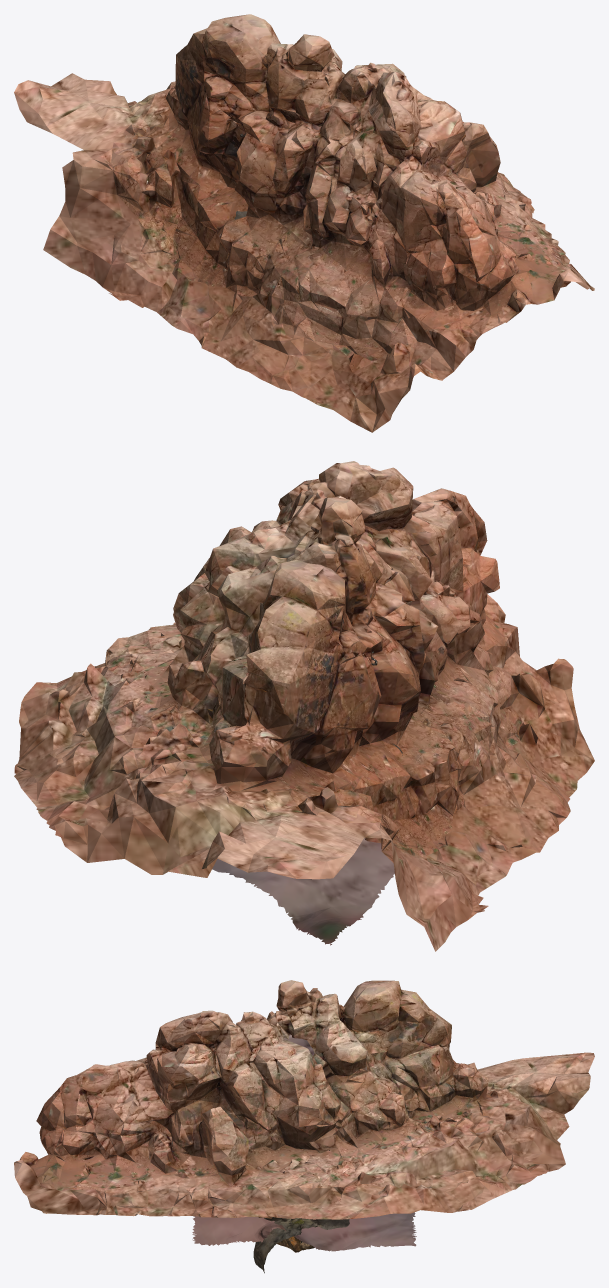
File: nature.glb
The picture shows the model from 3 angles, top to bottom: view 1: azimuth 30°, elevation 25°; view 2: azimuth 150°, elevation 25°; view 3: azimuth 270°, elevation 25°; orthographic projection. The views are drawn at different scales.
Visible parts, largest first — view 1: m_rock_mesa; view 2: m_rock_mesa, Model_material0_0; view 3: m_rock_mesa, Model_material0_0, drone_rock_01.
Boxes of the visible parts, <box> form: m_rock_mesa: <box>14,14,594,432</box>; m_rock_mesa: <box>14,461,594,951</box>; Model_material0_0: <box>212,553,394,945</box>; m_rock_mesa: <box>14,980,594,1219</box>; Model_material0_0: <box>192,1034,416,1251</box>; drone_rock_01: <box>253,1217,349,1273</box>.
Bounding box in the file's own units: 16.58 × 12 × 24.96.
Materials: 8 (8 with a texture image).
